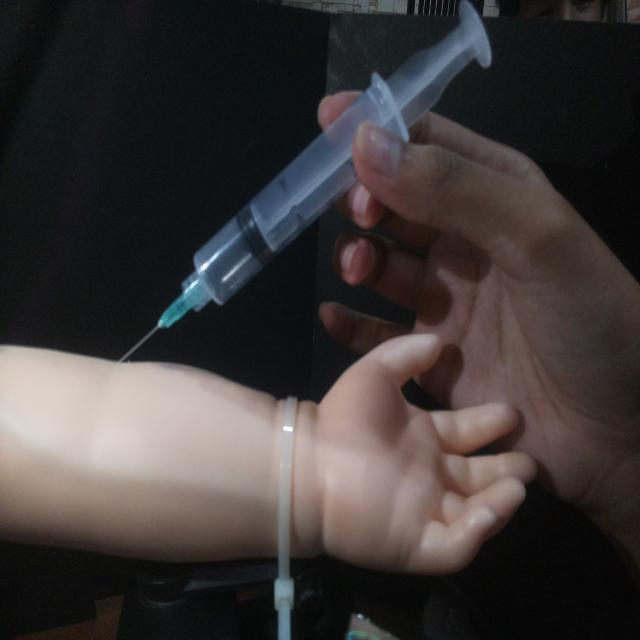30deg: (113, 2, 495, 365)
